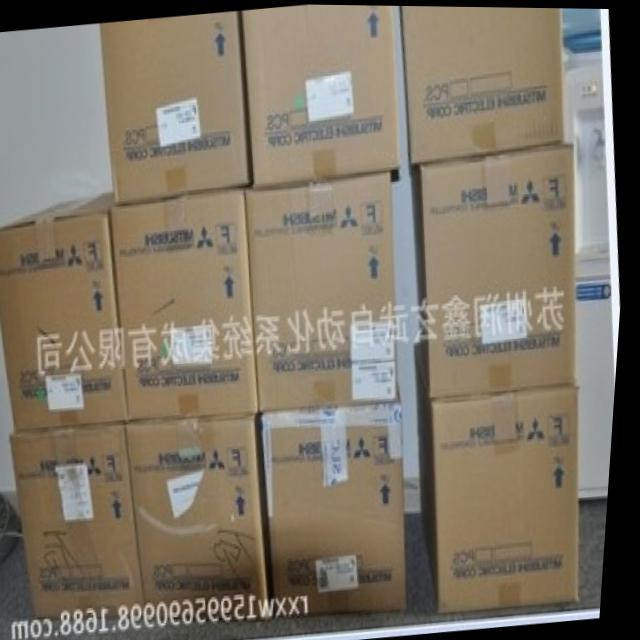box: (419, 342, 586, 613), (412, 140, 579, 397), (247, 172, 403, 410), (112, 186, 264, 421), (267, 397, 414, 615), (0, 192, 133, 431), (131, 413, 277, 614), (100, 10, 252, 203), (242, 4, 402, 187), (15, 423, 153, 614), (401, 5, 566, 163)
